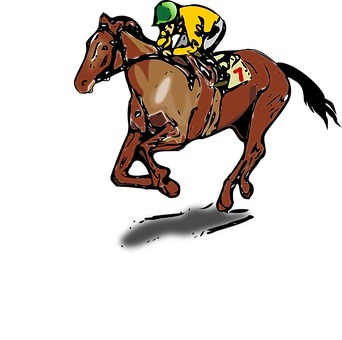horse: (65, 9, 336, 218)
person: (144, 1, 231, 77)
